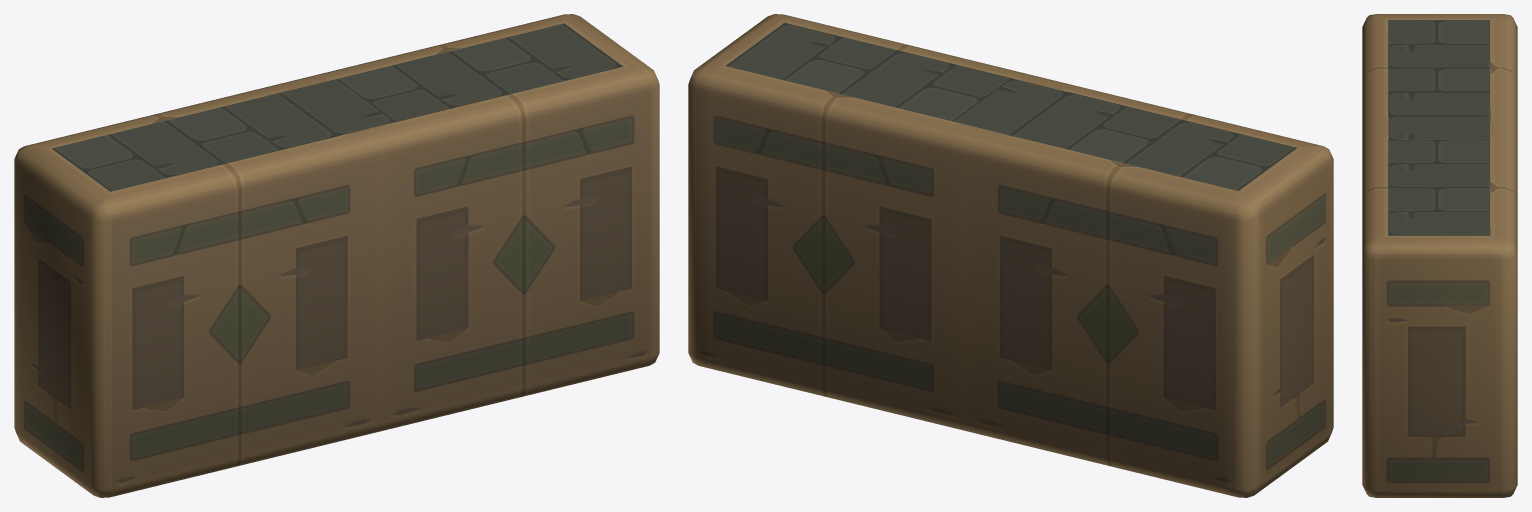
File: G_016_SpinBox_Sub_4.FBX
3 views of the same model, side by side, from view 1: azimuth 30°, elevation 25°; view 2: azimuth 150°, elevation 25°; view 3: azimuth 270°, elevation 25° (orthographic). The views are drawn at different scales.
Visible parts, largest first — view 1: G_016_SpinBox_Sub_4; view 2: G_016_SpinBox_Sub_4; view 3: G_016_SpinBox_Sub_4.
Part boxes in pixels (box(x1,y1,x2,y2)): G_016_SpinBox_Sub_4: box(14, 14, 659, 497); G_016_SpinBox_Sub_4: box(688, 14, 1333, 497); G_016_SpinBox_Sub_4: box(1362, 14, 1517, 497).
Bounding box in the file's own units: 800 × 400 × 220.
